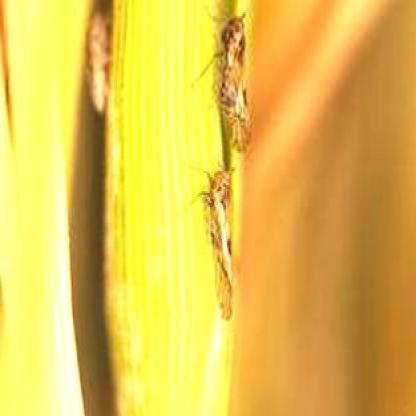brown-planthopper: (218, 11, 254, 152), (202, 166, 234, 322), (86, 9, 108, 113)
